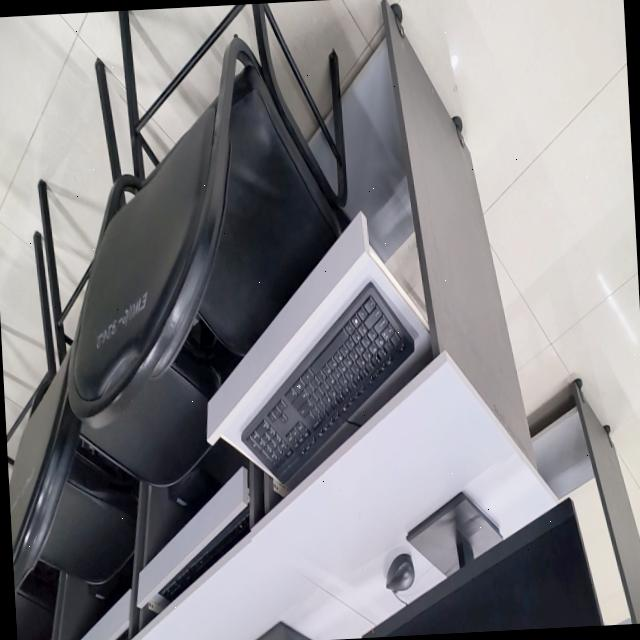Chair: (68, 2, 349, 427), (8, 180, 240, 592), (39, 440, 137, 583), (14, 563, 58, 640)
Keyboard: (242, 282, 413, 481), (158, 505, 249, 609)
Monitor: (361, 491, 604, 638)
Mouse: (385, 553, 414, 595)
